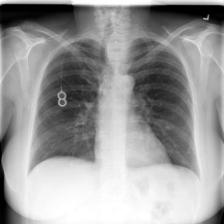normal: (22, 34, 204, 182)
